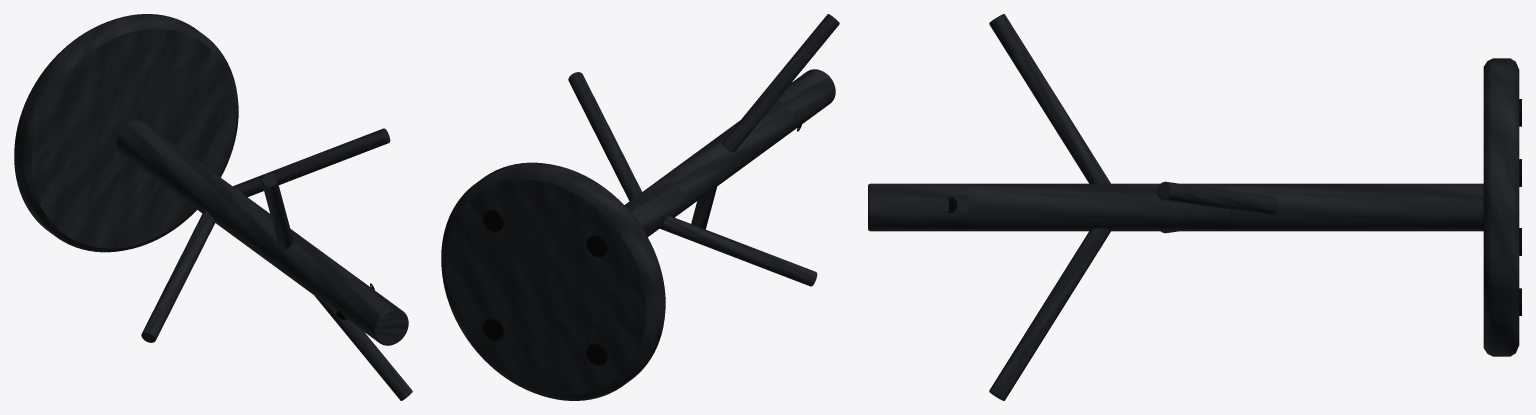
Rendered from mylifeunit_mug_tree_4branch.obj.
The picture shows the model from 3 angles, left to right: view 1: azimuth 30°, elevation 25°; view 2: azimuth 150°, elevation 25°; view 3: azimuth 270°, elevation 25°; orthographic projection. The views are drawn at different scales.
Parts seen in each view (by area): view 1: Base, Pole, Branch_01, Branch_02, Branch_04, Branch_03; view 2: Base, Pole, Branch_03, Branch_02, Branch_01, Branch_04, RubberPad_03, RubberPad_02, RubberPad_01, RubberPad_04; view 3: Pole, Base, Branch_04, Branch_03, Branch_01.
Boxes of the visible parts, <box> form: Base: <box>14,14,238,252</box>; Pole: <box>116,120,408,345</box>; Branch_01: <box>233,128,390,197</box>; Branch_02: <box>141,210,214,342</box>; Branch_04: <box>314,295,412,400</box>; Branch_03: <box>261,173,293,249</box>; Base: <box>441,162,665,400</box>; Pole: <box>624,69,835,236</box>; Branch_03: <box>722,14,839,152</box>; Branch_02: <box>660,216,817,286</box>; Branch_01: <box>568,72,641,201</box>; Branch_04: <box>691,187,716,229</box>; RubberPad_03: <box>586,343,607,365</box>; RubberPad_02: <box>586,235,607,257</box>; RubberPad_01: <box>483,209,503,231</box>; RubberPad_04: <box>483,318,503,340</box>; Pole: <box>868,183,1483,231</box>; Base: <box>1483,58,1519,356</box>; Branch_04: <box>989,228,1110,400</box>; Branch_03: <box>989,14,1110,184</box>; Branch_01: <box>1157,181,1279,214</box>.
Size of the model in its own units: 0.1823 by 0.1823 by 0.3505.
5 materials, 2 textured.
